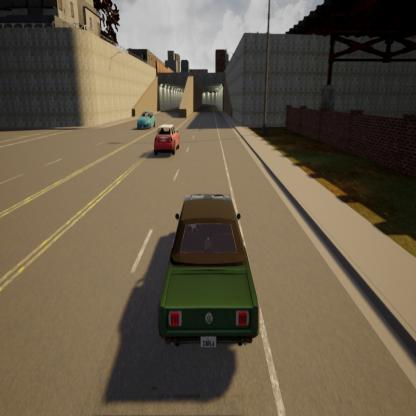Cars: (150, 188, 264, 360), (151, 119, 184, 161), (137, 108, 156, 132)
